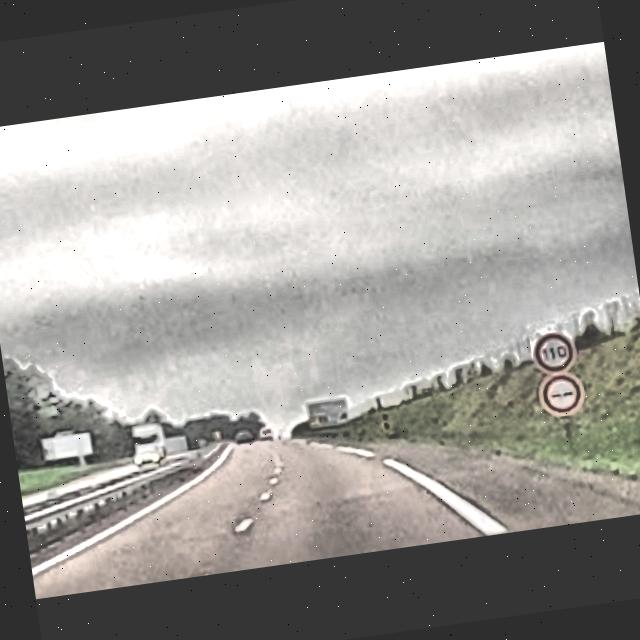speed_110: (532, 329, 577, 374)
